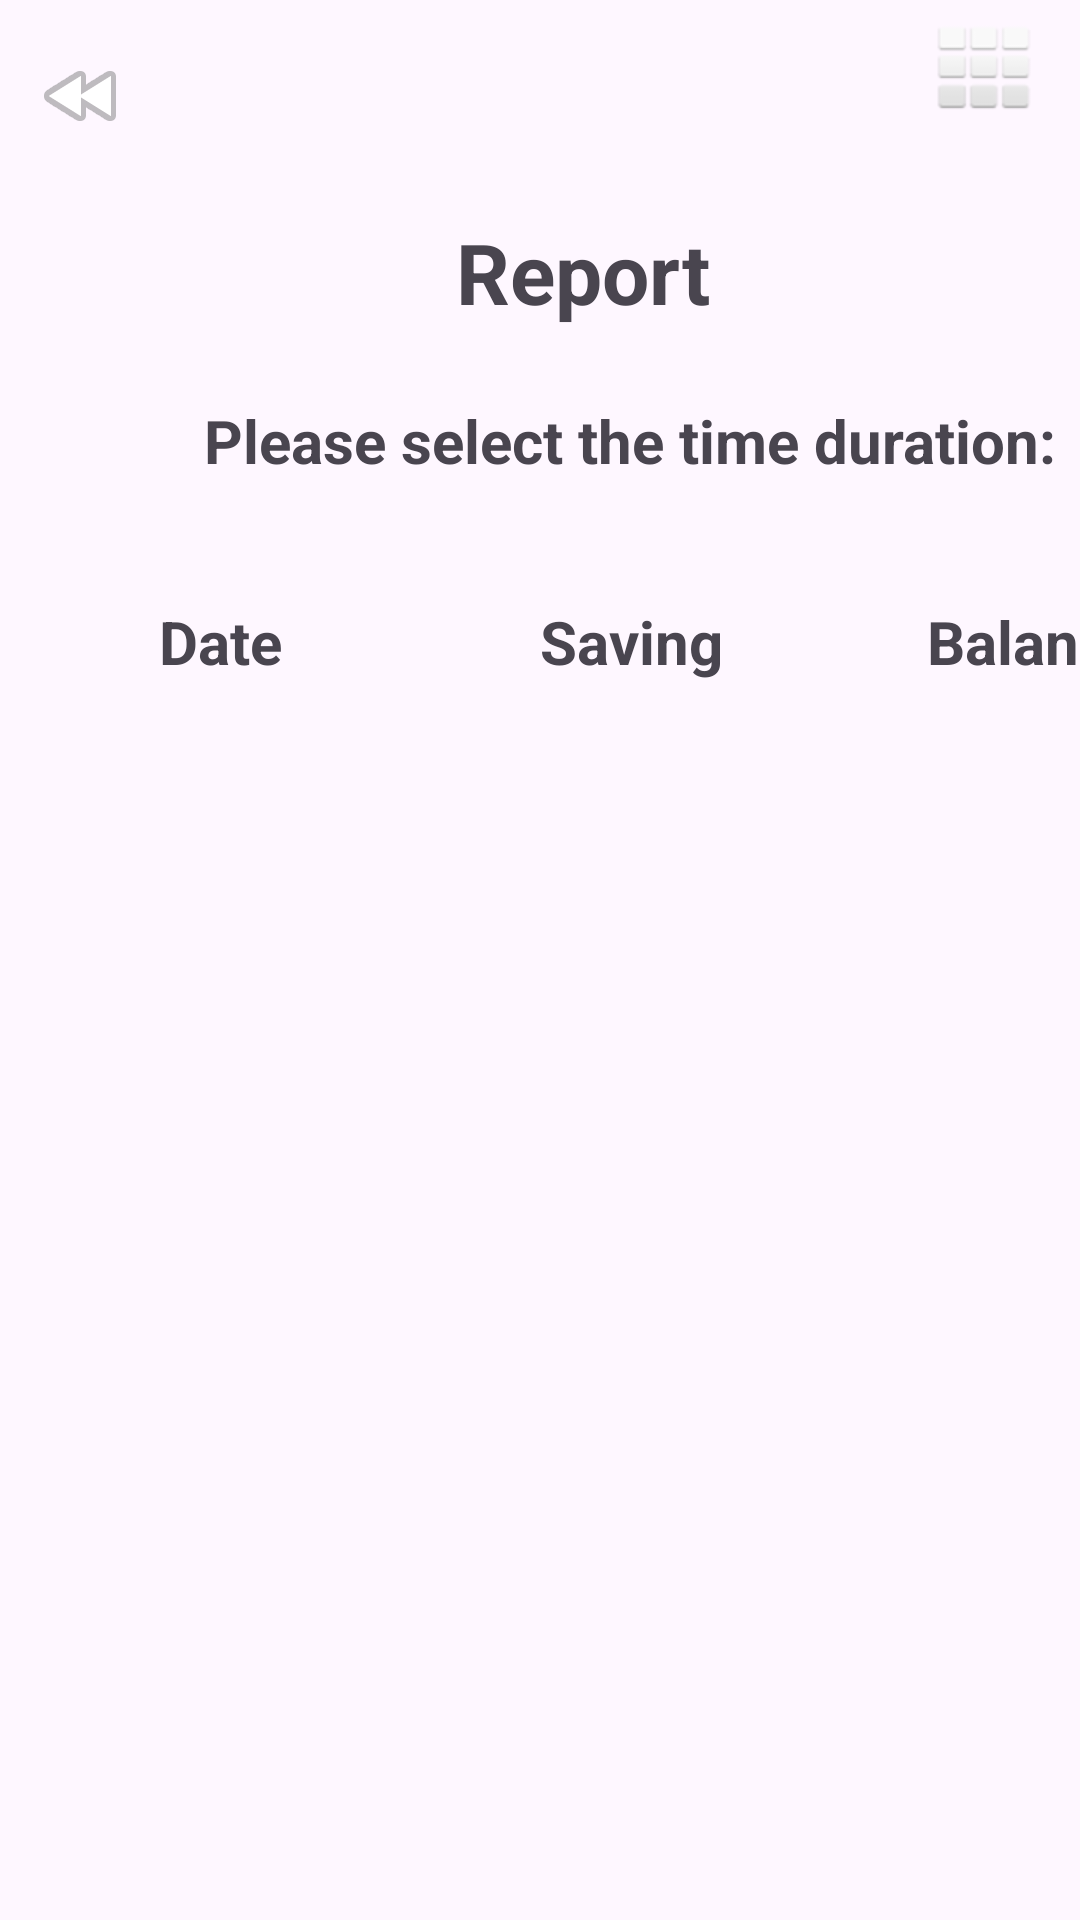

Named icons in this screenshot (1080×1920) and their bounding boxes, (x1, y1, x2, y2):
dialer: (939, 46, 1028, 108)
rew: (44, 71, 116, 121)
